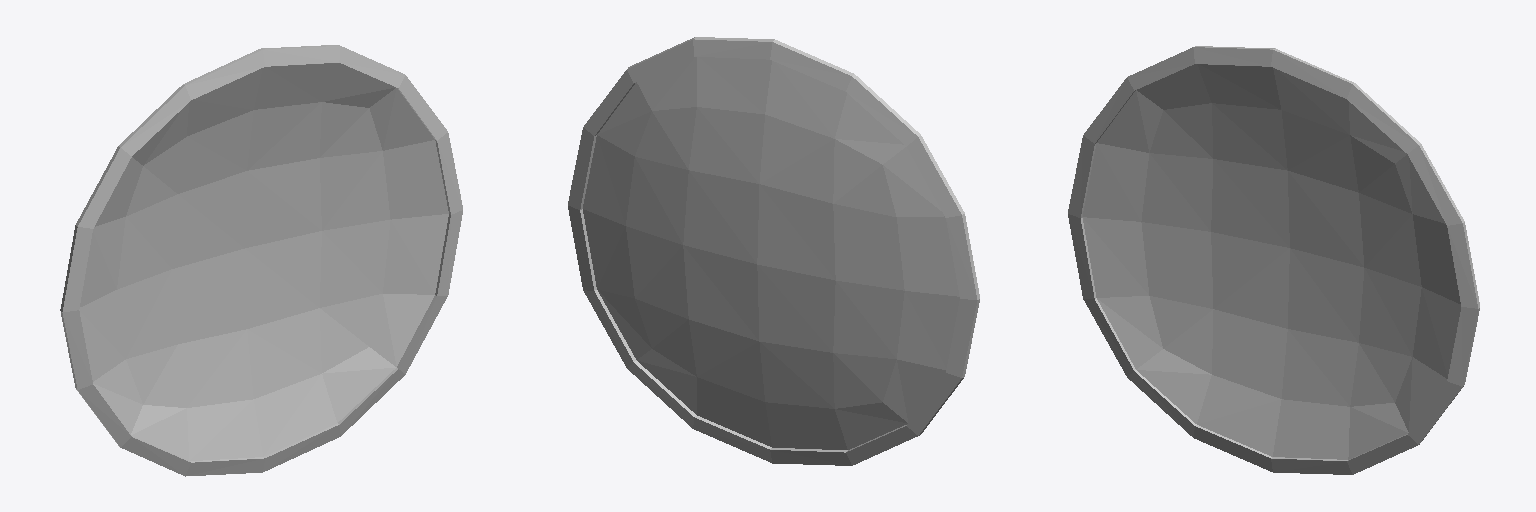
File: shield.obj
The picture shows the model from 3 angles: view 1: azimuth 30°, elevation 25°; view 2: azimuth 150°, elevation 25°; view 3: azimuth 330°, elevation 25°; orthographic projection.
Visible parts, largest first — view 1: Shield Mesh Mesh Mesh Mesh Mesh; view 2: Shield Mesh Mesh Mesh Mesh Mesh; view 3: Shield Mesh Mesh Mesh Mesh Mesh.
Boxes of the visible parts, box(x1,y1,x2,y2) form: Shield Mesh Mesh Mesh Mesh Mesh: box(60, 45, 462, 476); Shield Mesh Mesh Mesh Mesh Mesh: box(568, 37, 979, 465); Shield Mesh Mesh Mesh Mesh Mesh: box(1068, 46, 1479, 474).
Bounding box in the file's own units: 1.54 × 1.53 × 0.149.